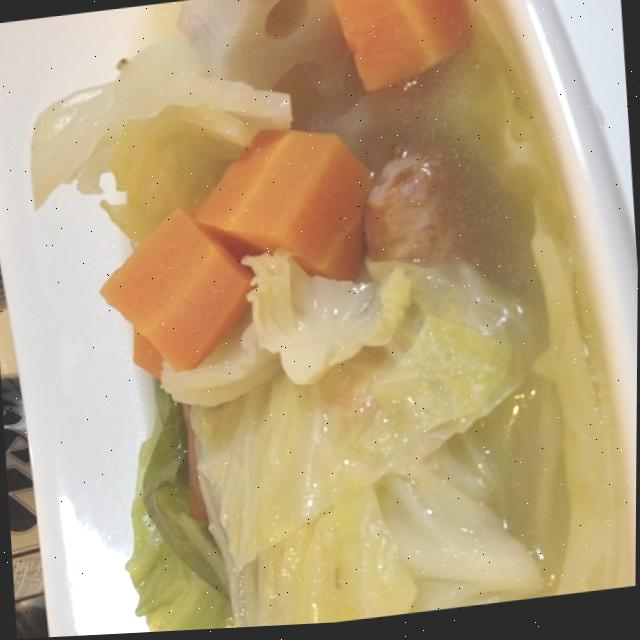汤锅炖物: (10, 0, 640, 639)
